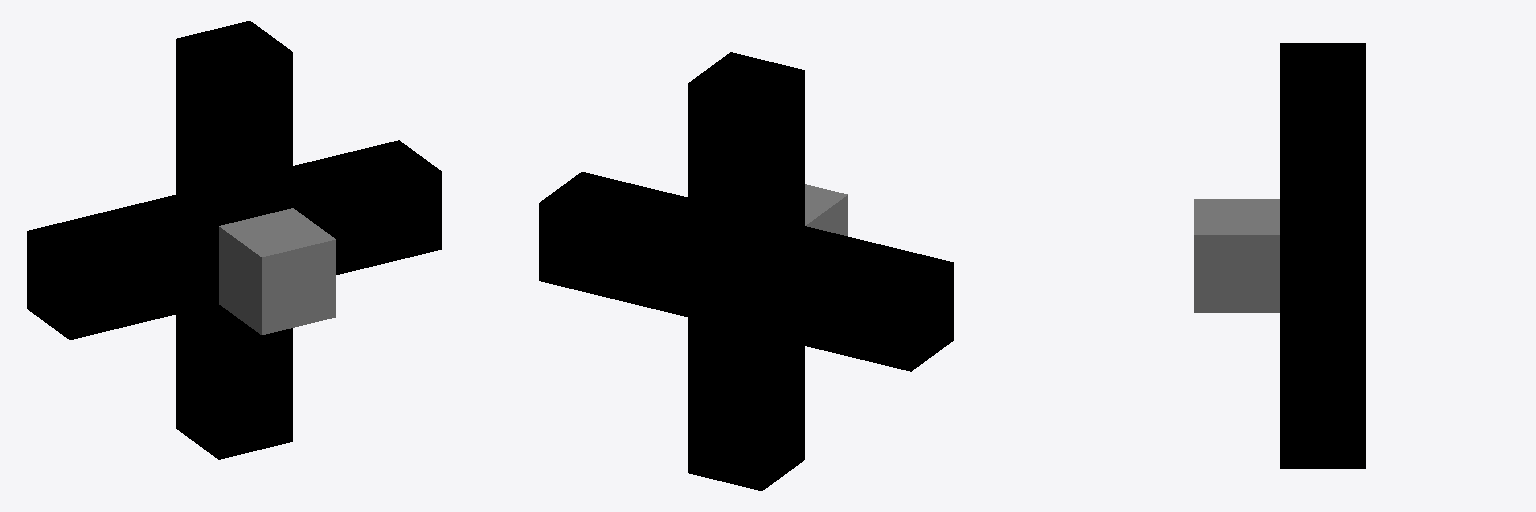
3 renders of one model, left to right at view 1: azimuth 30°, elevation 25°; view 2: azimuth 150°, elevation 25°; view 3: azimuth 270°, elevation 25°, orthographic.
Size of the model in its own units: 20 by 20 by 8.
Materials: 1 (1 with a texture image).